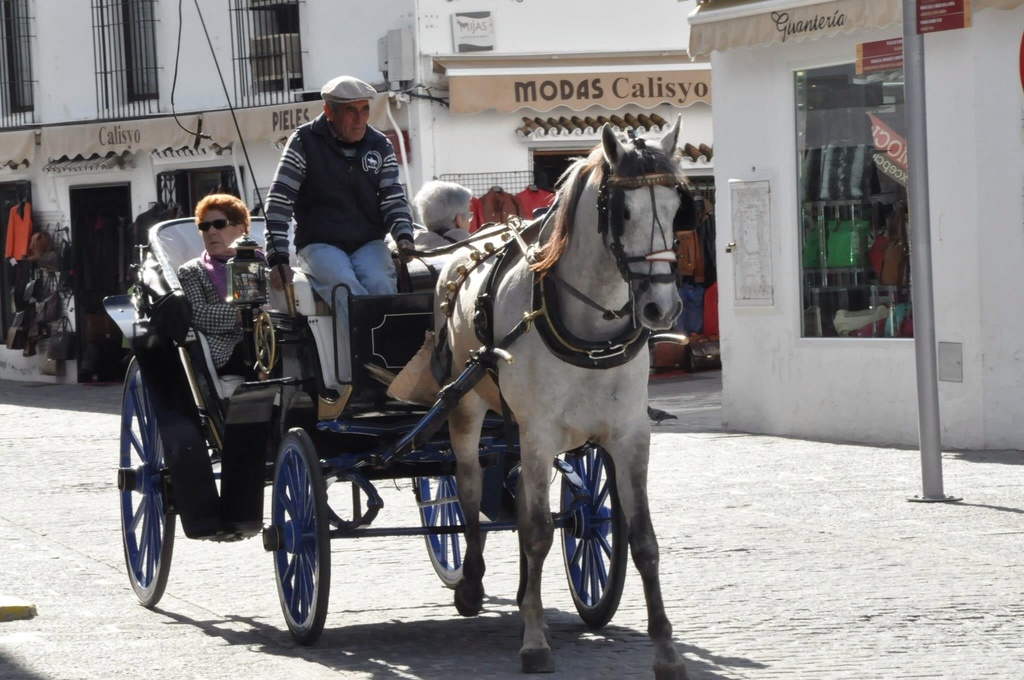horse: (433, 112, 682, 679)
